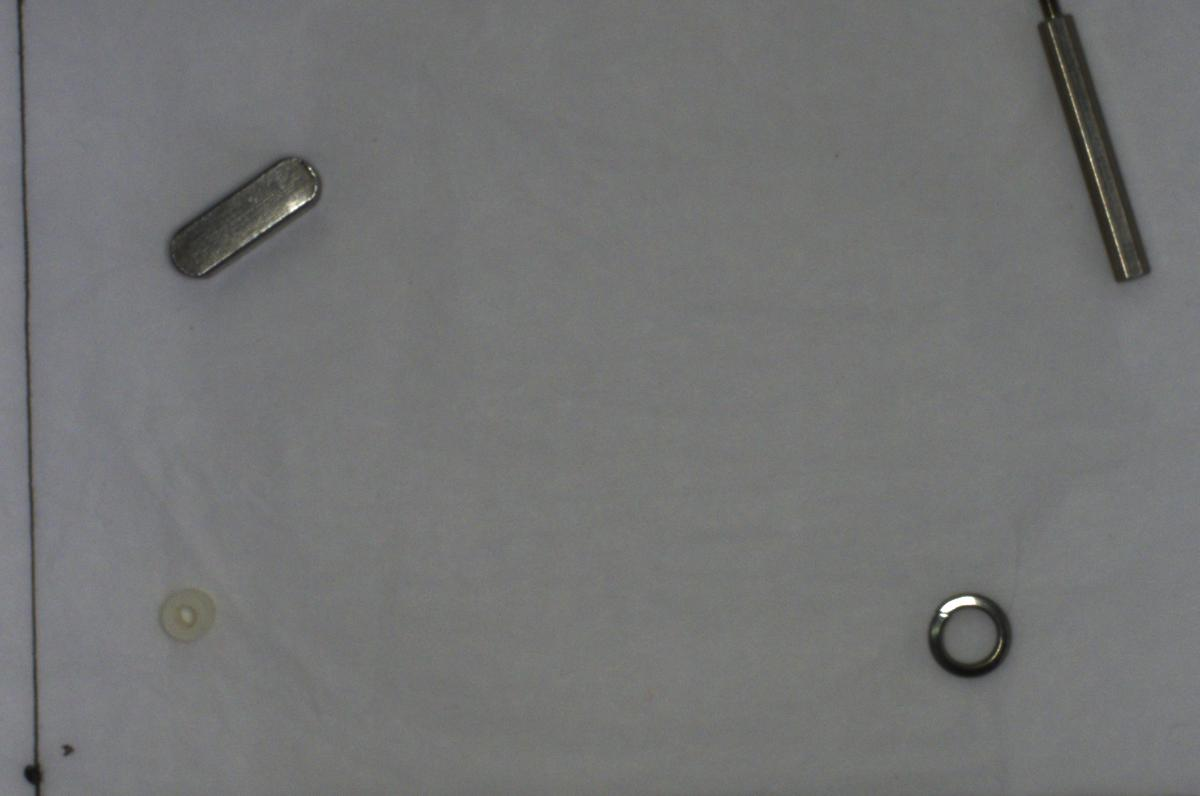Hexagonal steel column: (1032, 3, 1160, 289)
Keybar: (151, 140, 334, 294)
Plastic cushion pillar: (155, 580, 220, 650)
Spring washer: (924, 585, 1020, 682)
